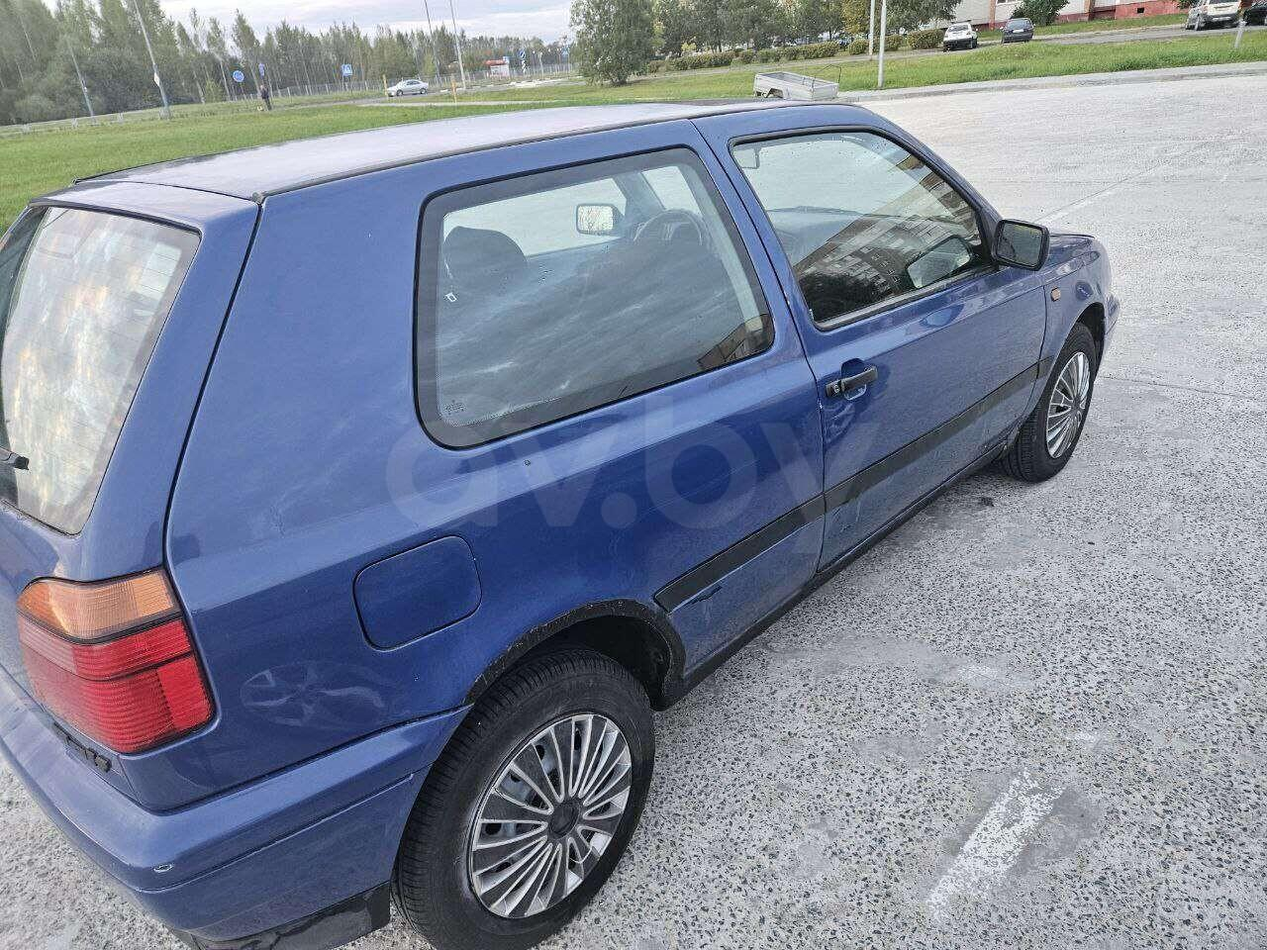Golf_1991-2000: (0, 106, 1119, 950)
